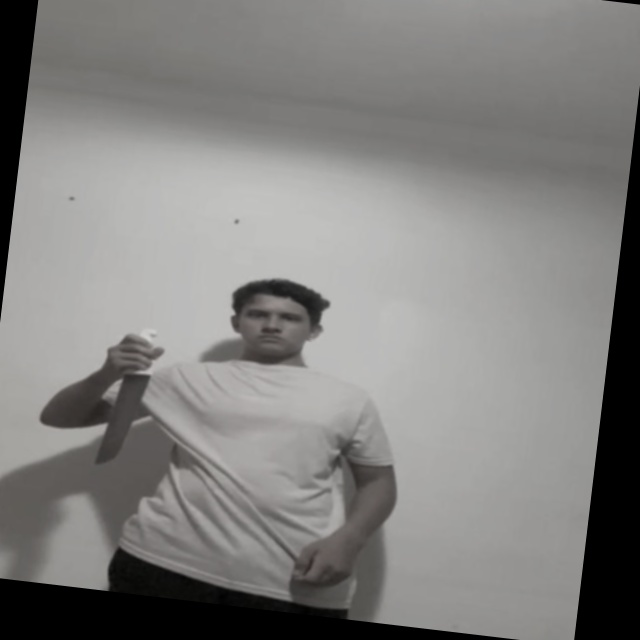Sharp-Object: (98, 368, 149, 466)
